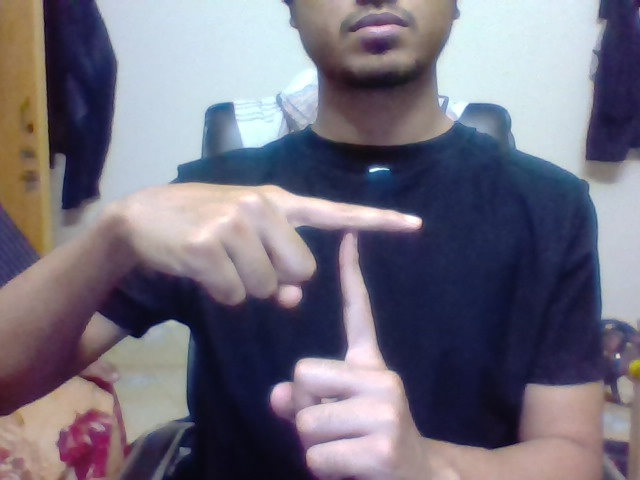T: (320, 190, 435, 339)
